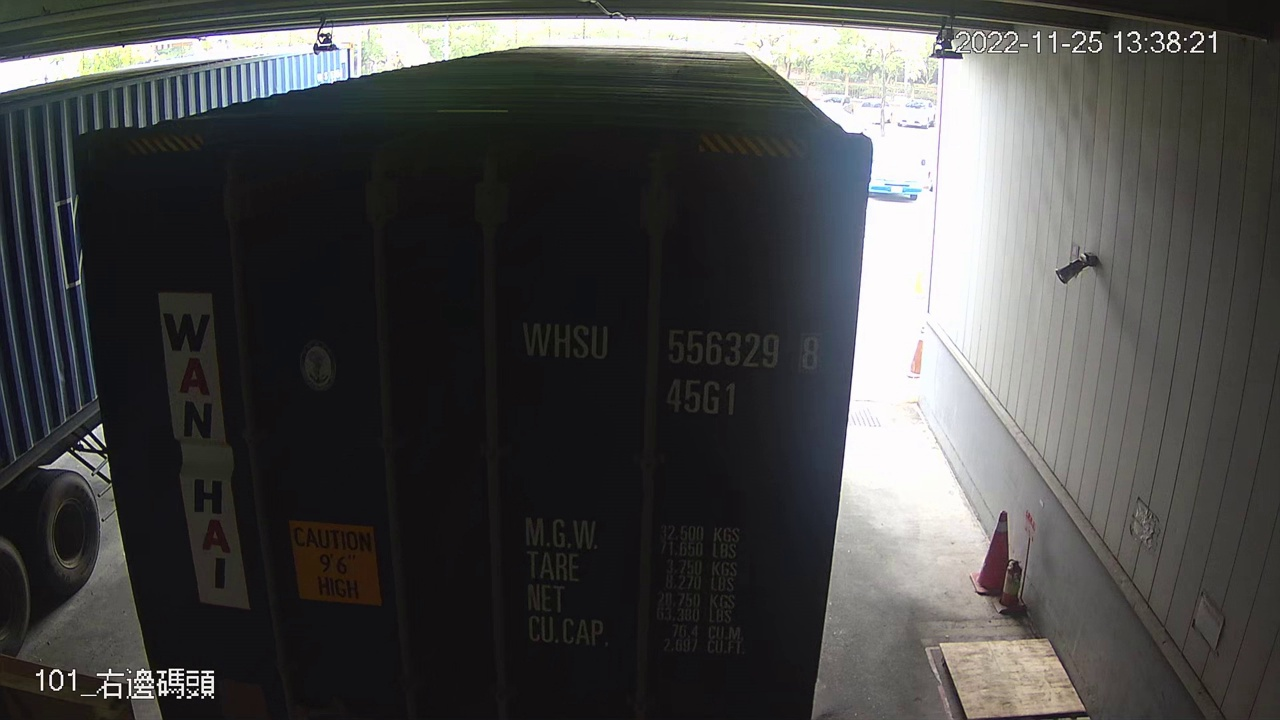container: (503, 303, 830, 426)
